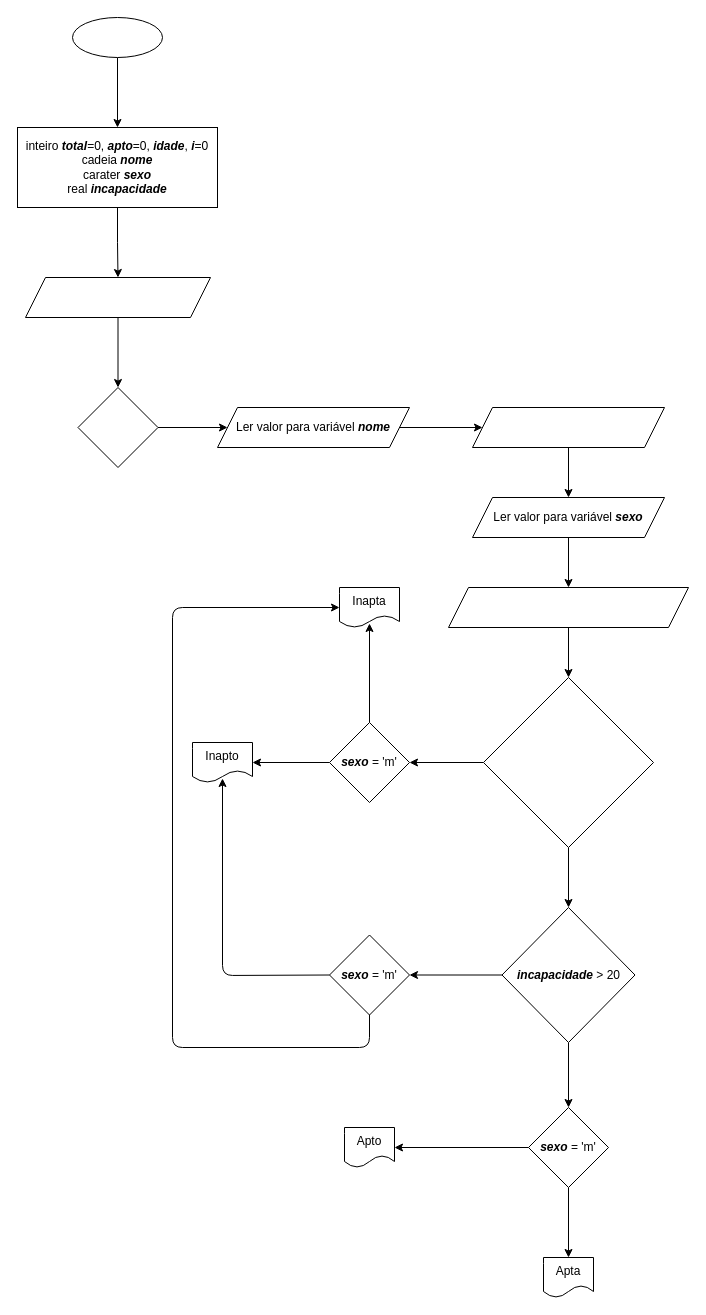
This 706x1315 diagram has some shape labels left out. Here are the shapes that lost their labels. From the top down, the centre of each, then its label:
[117,37]: INÍCIO
[117,297]: Ler valor para variável total
[117,427]: i < total
[568,427]: Ler valor para variável idade
[568,607]: Ler valor para variável incapacidade
[568,762]: idade < 18 ou idade > 25
